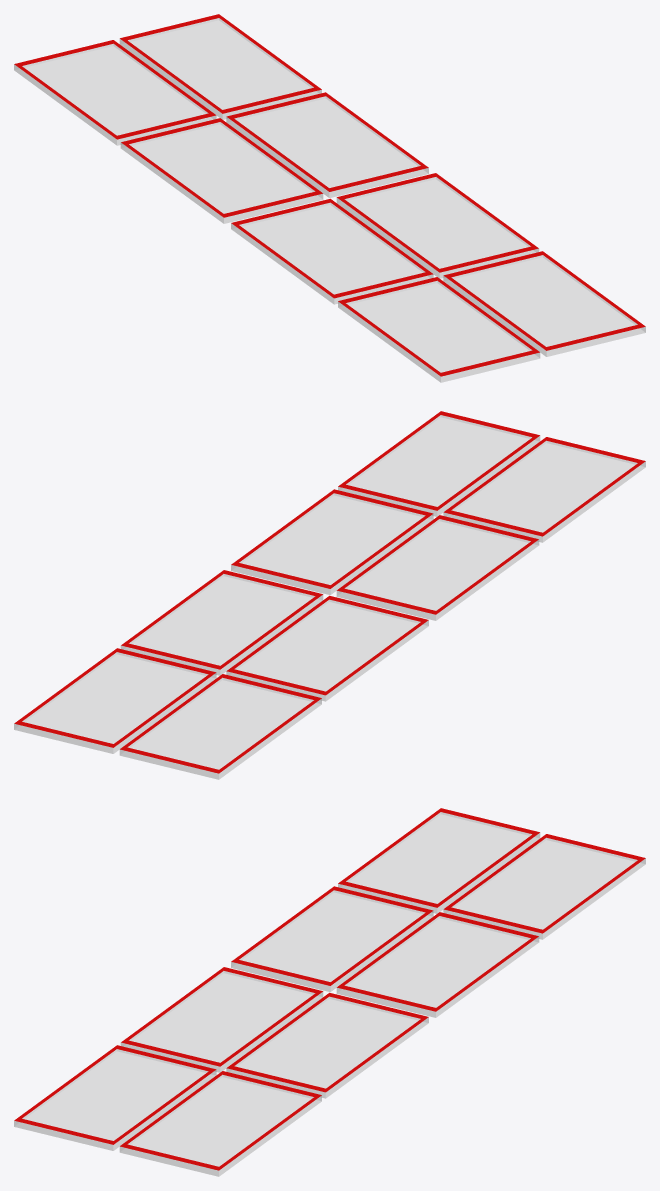
File: Panel.fbx
3 views of the same model, one above another, from view 1: azimuth 30°, elevation 25°; view 2: azimuth 150°, elevation 25°; view 3: azimuth 330°, elevation 25° (orthographic).
Parts seen in each view (by area): view 1: Wing3_transform; view 2: Wing3_transform; view 3: Wing3_transform.
Part boxes in pixels (x1,y1,x2,y2): Wing3_transform: (14,14,645,382); Wing3_transform: (14,411,645,779); Wing3_transform: (14,808,645,1176).
Size of the model in its own units: 4.8 by 0.1391 by 17.33.
